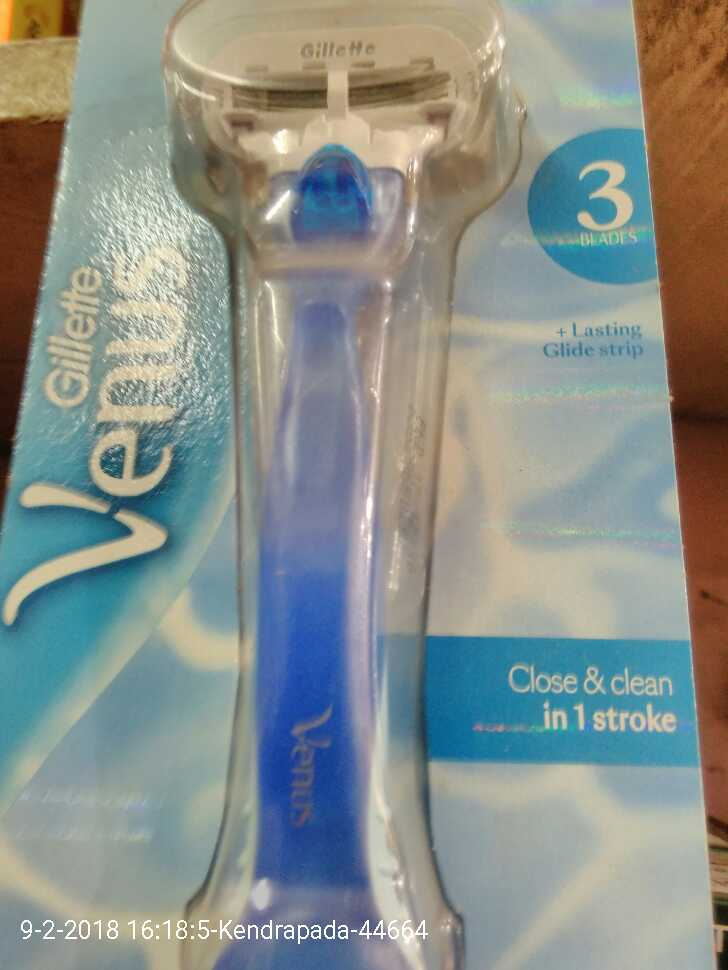venus: (175, 12, 532, 970)
